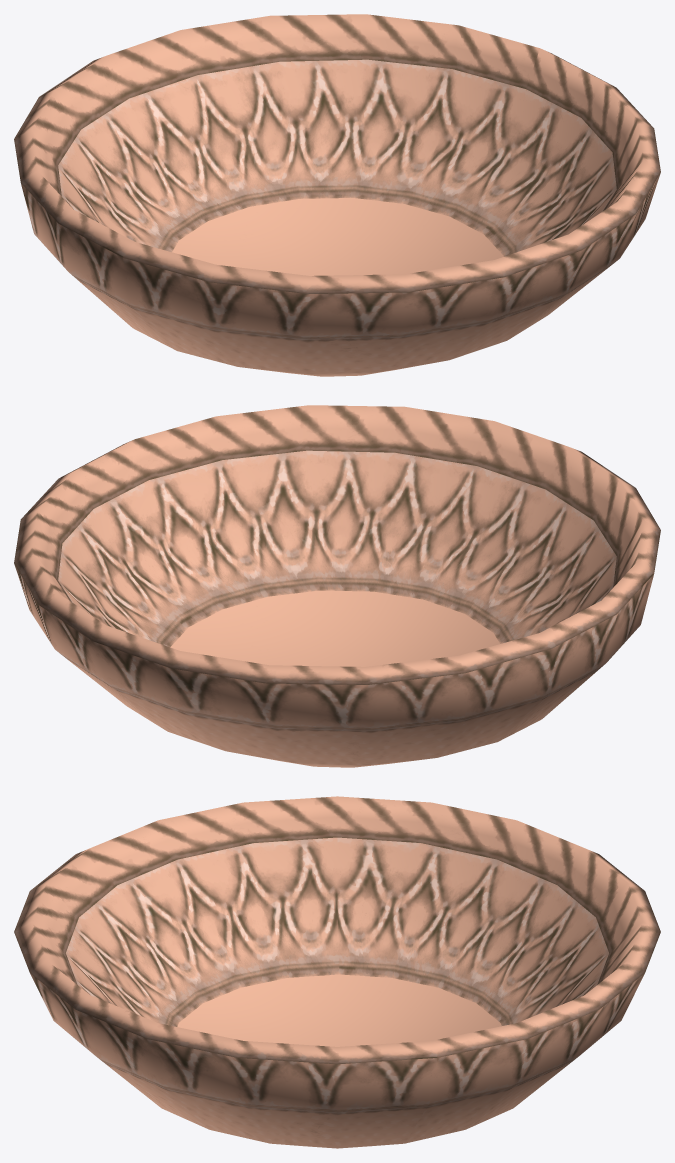
Rendered from Bowl.fbx.
The picture shows the model from 3 angles, top to bottom: view 1: azimuth 30°, elevation 25°; view 2: azimuth 150°, elevation 25°; view 3: azimuth 270°, elevation 25°; orthographic projection. The views are drawn at different scales.
Visible parts, largest first — view 1: plate_2; view 2: plate_2; view 3: plate_2.
Boxes of the visible parts, x1,y1,x2,y2 form: plate_2: (14,14,660,376); plate_2: (14,405,660,767); plate_2: (14,796,660,1148).
Bounding box in the file's own units: 36.62 × 11.41 × 37.83.
